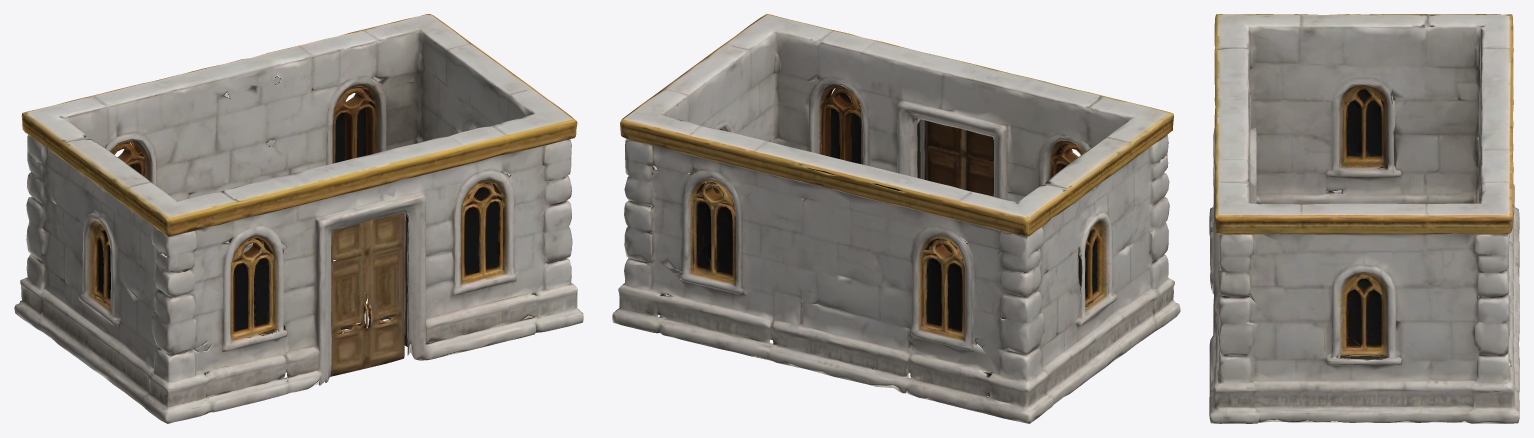
The model's file is body_marble.glb.
3 renders of one model, left to right at view 1: azimuth 30°, elevation 25°; view 2: azimuth 150°, elevation 25°; view 3: azimuth 270°, elevation 25°, orthographic.
Visible parts, largest first — view 1: geometry_0; view 2: geometry_0; view 3: geometry_0.
Boxes of the visible parts, box(x1,y1,x2,y2) form: geometry_0: box(14, 14, 583, 423); geometry_0: box(612, 14, 1180, 423); geometry_0: box(1209, 14, 1519, 423).
Size of the model in its own units: 1 by 0.4653 by 0.6323.
Materials: 1 (1 with a texture image).
